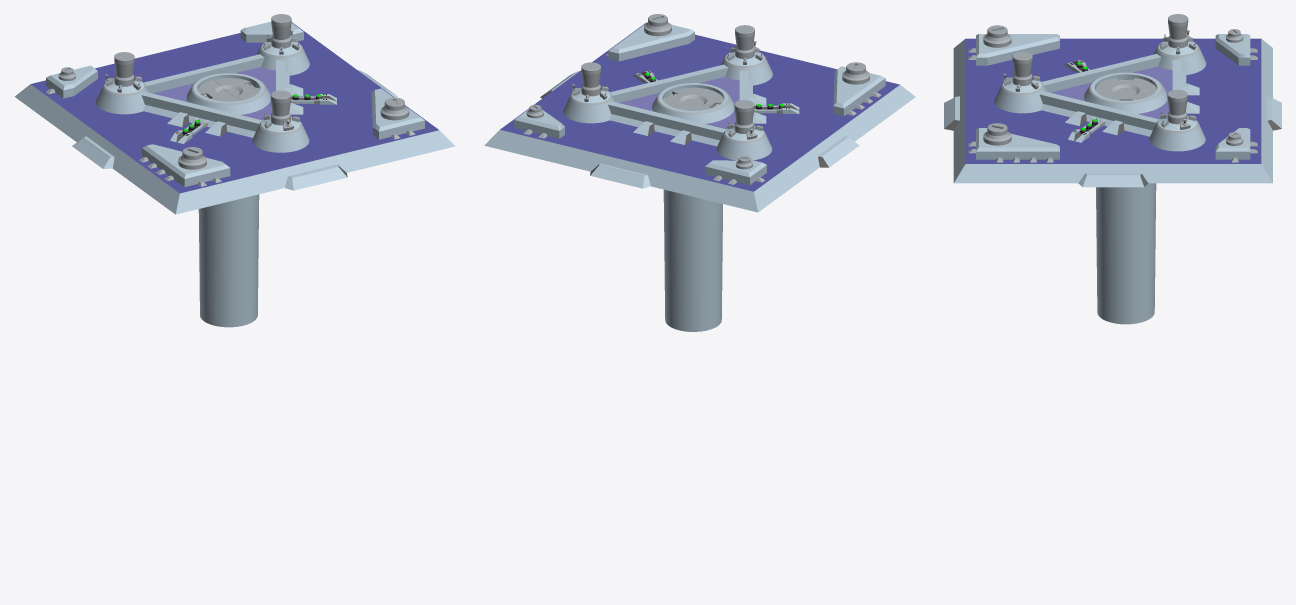
The model's file is Maaker2.fbx.
3 views of the same model, side by side, from view 1: azimuth 30°, elevation 25°; view 2: azimuth 150°, elevation 25°; view 3: azimuth 270°, elevation 25° (orthographic). The views are drawn at different scales.
Parts seen in each view (by area): view 1: foundation_12, hole_base, boots, base, _pillar3, _pillar1, _pillar2, deets, door; view 2: foundation_12, hole_base, boots, base, _pillar1, _pillar2, deets, _pillar3, door; view 3: foundation_12, hole_base, boots, base, _pillar2, deets, _pillar3, _pillar1, door (×2).
Part boxes in pixels (x1,y1,x2,y2): foundation_12: (14,22,455,214); hole_base: (186,73,270,327); boots: (46,21,424,190); base: (141,54,289,137); _pillar3: (252,90,309,152); _pillar1: (96,52,148,114); _pillar2: (256,14,309,75); deets: (46,67,415,186); door: (214,78,259,100); foundation_12: (484,22,915,212); hole_base: (652,83,734,331); boots: (514,22,885,188); base: (608,64,752,146); _pillar1: (716,100,772,160); _pillar2: (563,62,614,123); deets: (523,14,881,184); _pillar3: (721,25,772,85); door: (663,87,708,109); foundation_12: (953,38,1272,183); hole_base: (1084,72,1167,324); boots: (944,34,1281,187); base: (1039,54,1186,136); _pillar2: (1149,89,1205,151); deets: (968,25,1257,162); _pillar3: (994,51,1046,113); _pillar1: (1153,14,1206,74); door (×2): (1095,78,1156,100).
Bounding box in the file's own units: 517 × 897 × 517.
